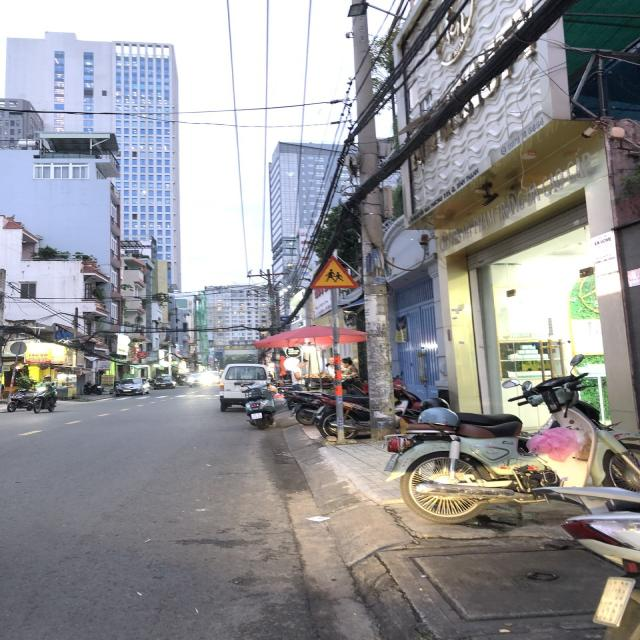Bien bao tre em: (302, 254, 361, 295)
